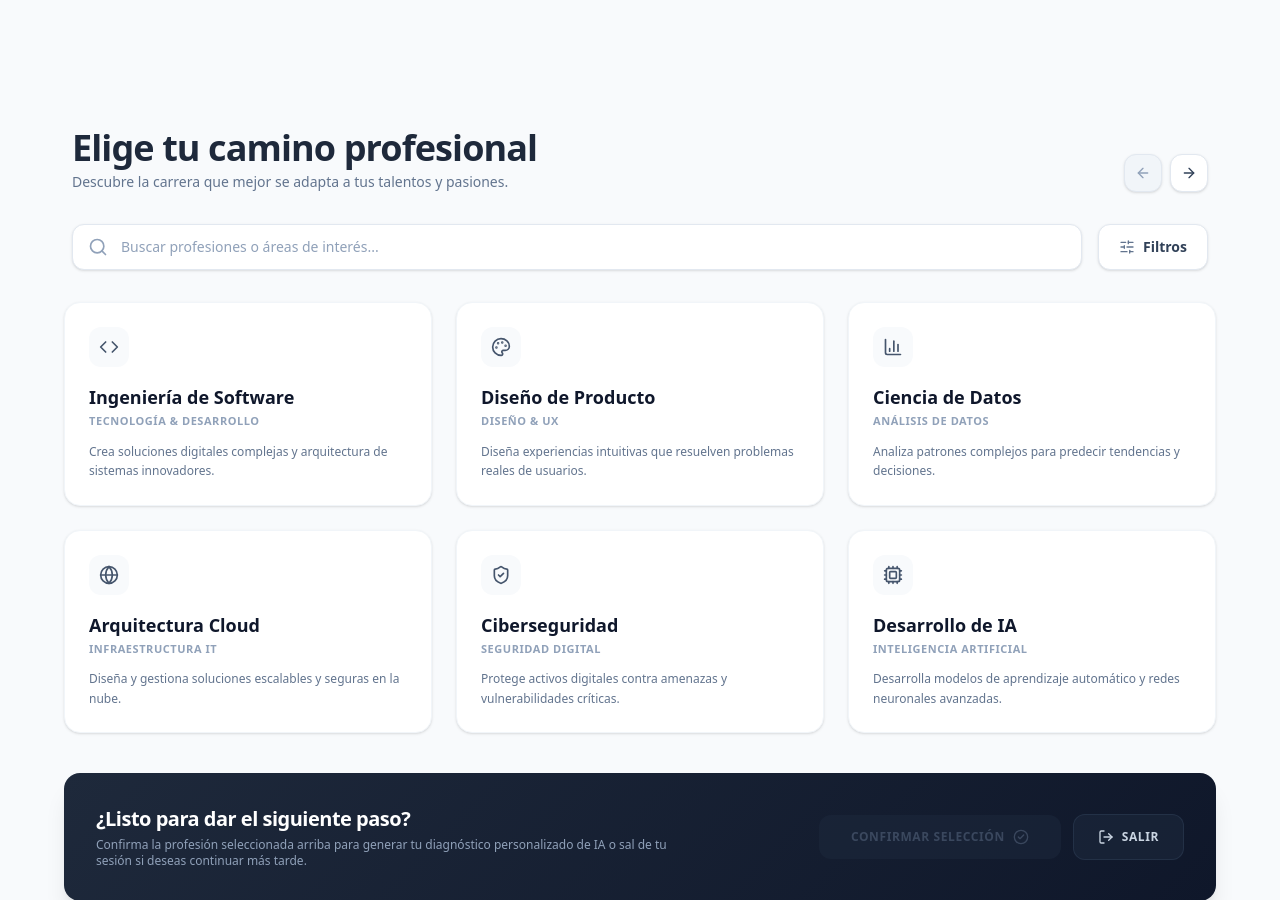
Test: Dashboard › deselecciona al hacer click dos veces en la misma tarjeta
Click the text "Ciencia de Datos" at (1032, 404), box [848,302,1216,506]
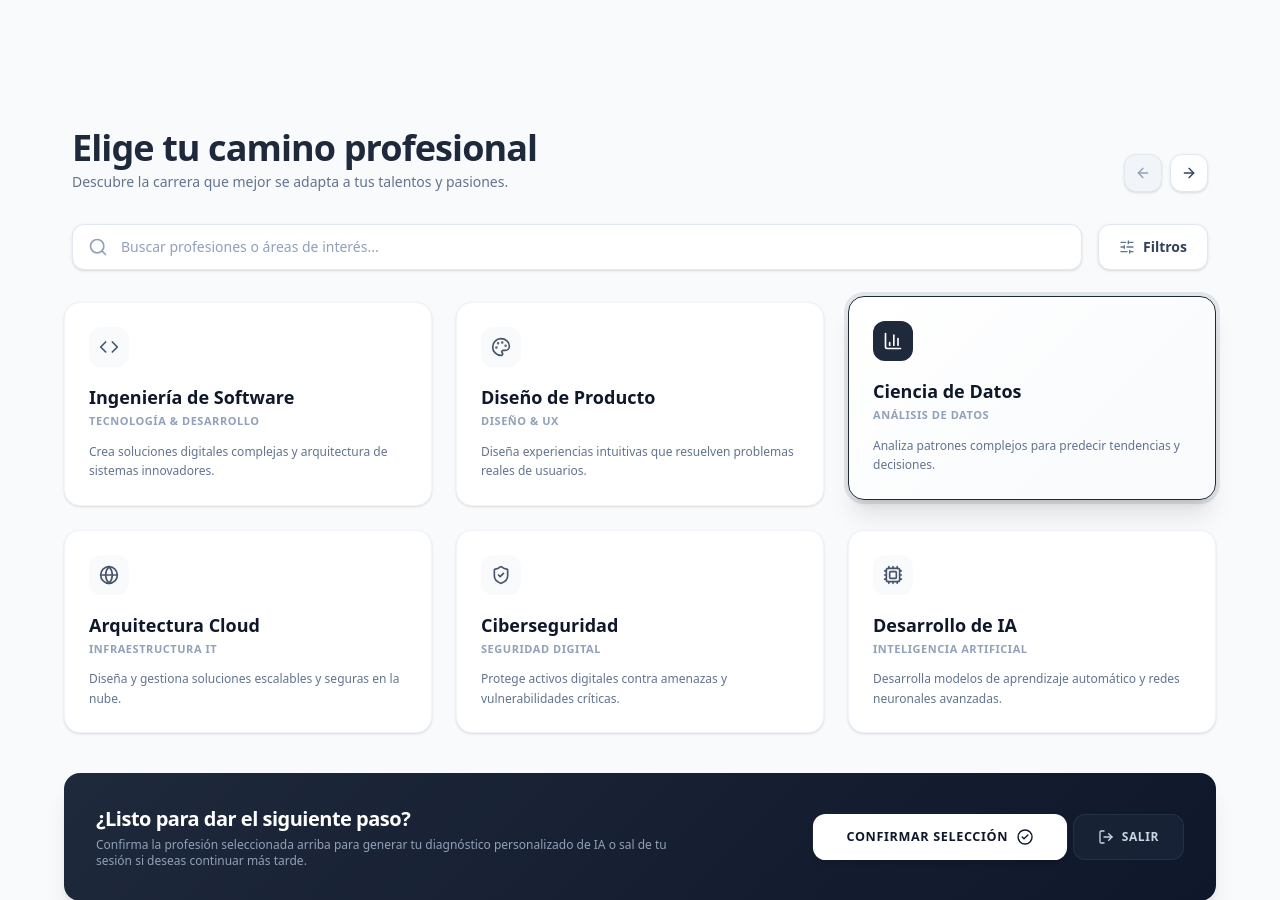
Click the text "Ciencia de Datos" at (1032, 398), box [848,296,1216,500]
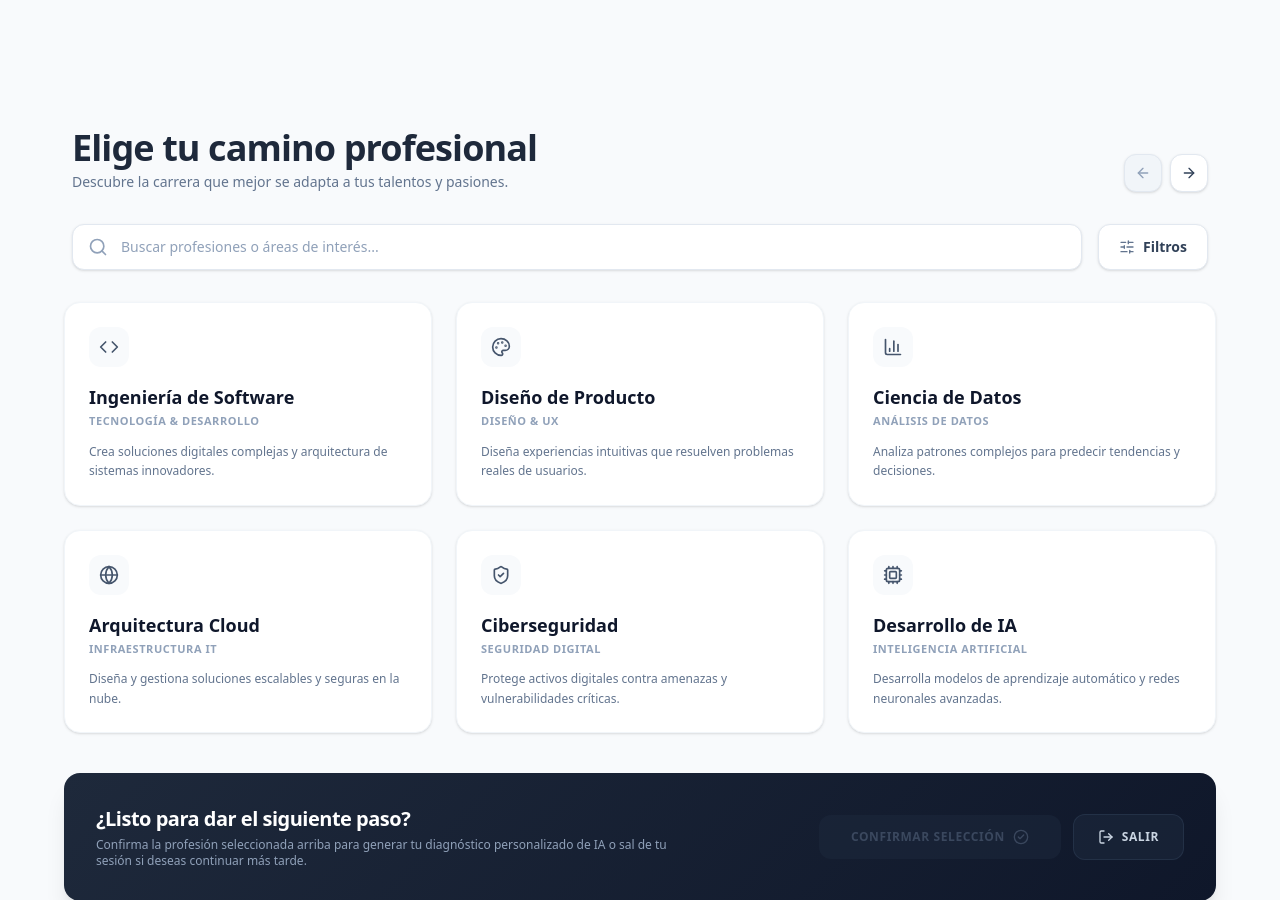
Result: the button "Confirmar Selección" is disabled at [819,815,1061,859]
